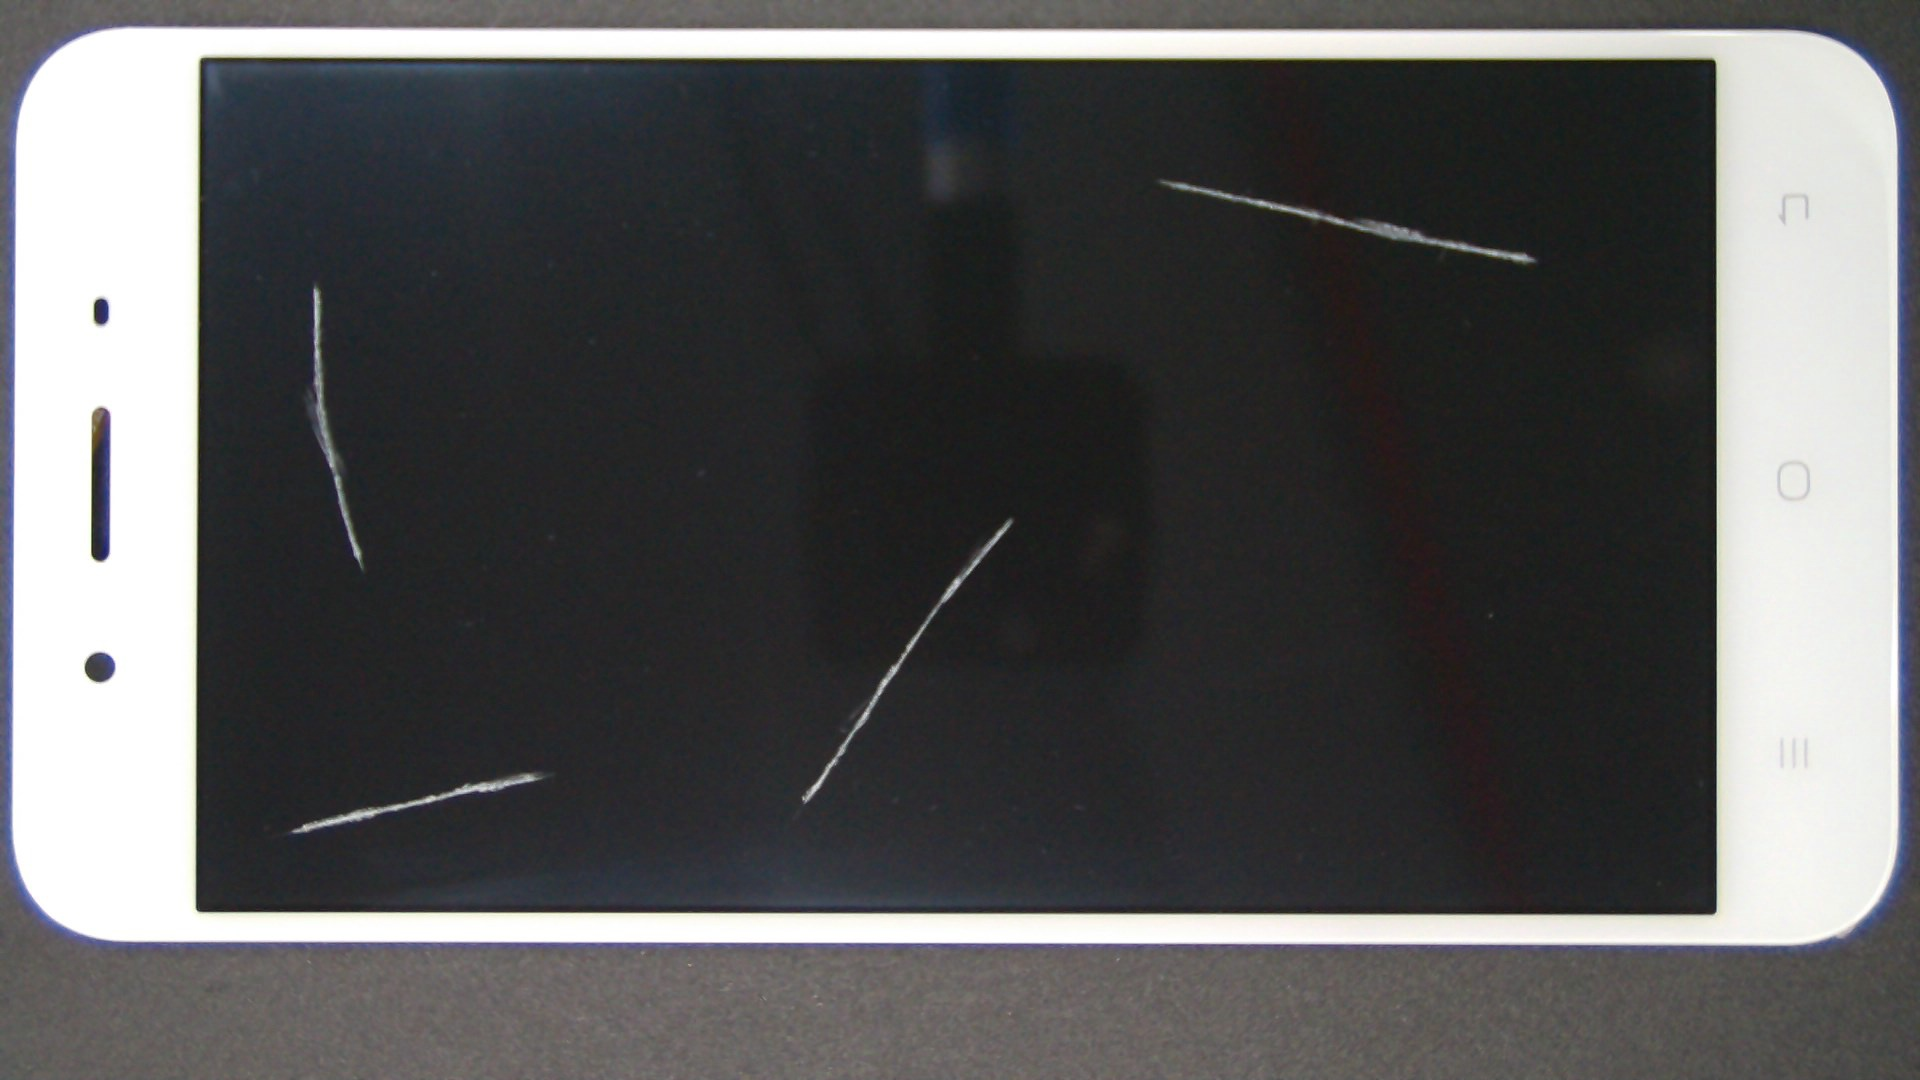oil: (506, 258, 1516, 775), (270, 385, 810, 1080), (582, 88, 1741, 268), (157, 140, 471, 425)
